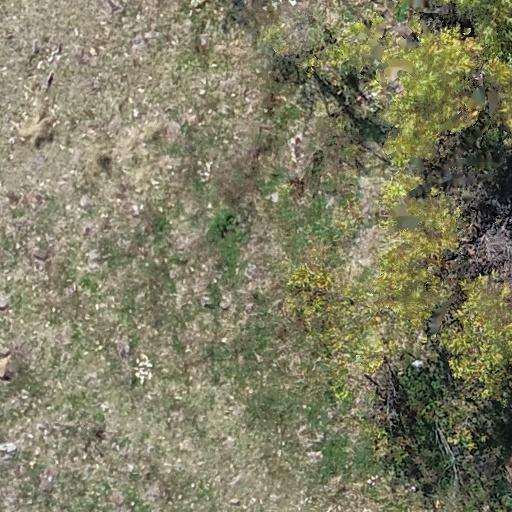stone: (0, 347, 17, 383)
